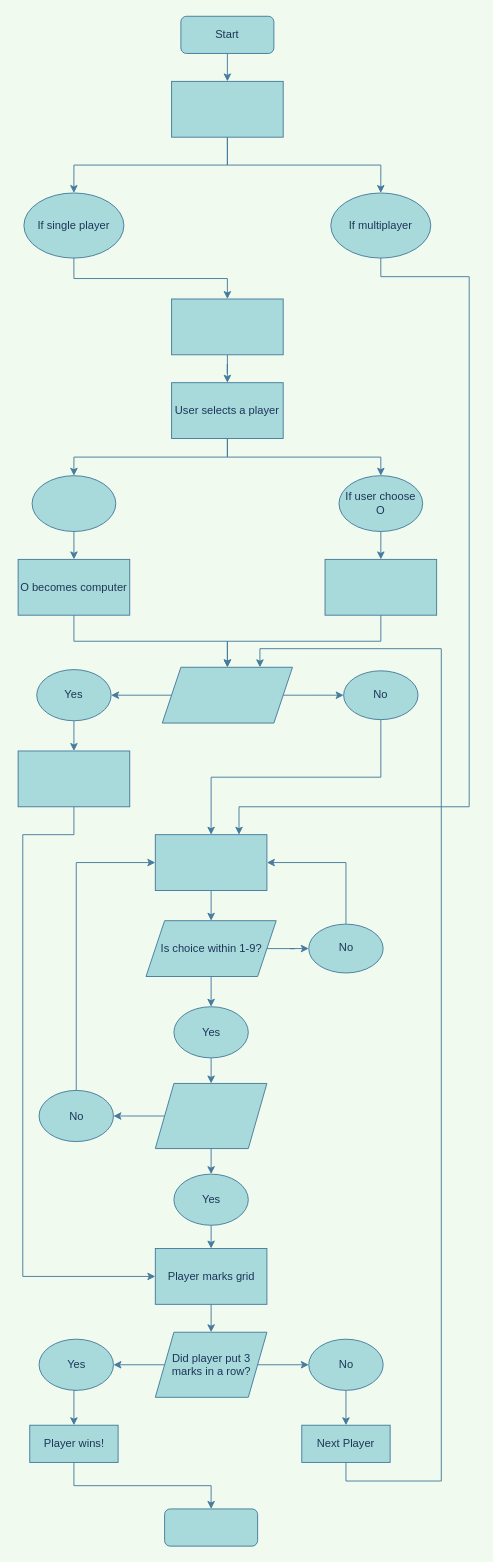
Image size: 493x1562. Some labels were removed from this diagram. Each missing label, with the box of its shape:
Ask user to choose a game mode: (171, 80, 283, 137)
Ask user to choose a player (X or O): (171, 298, 283, 355)
Chooses from available grid.: (17, 750, 130, 807)
End: (164, 1508, 258, 1546)
If user choose X: (31, 475, 116, 531)
Is grid available?: (154, 1083, 267, 1149)
Is player a computer?: (161, 666, 292, 723)
Player chooses a grid (1-9): (154, 834, 267, 890)
X becomes computer: (324, 558, 437, 615)
